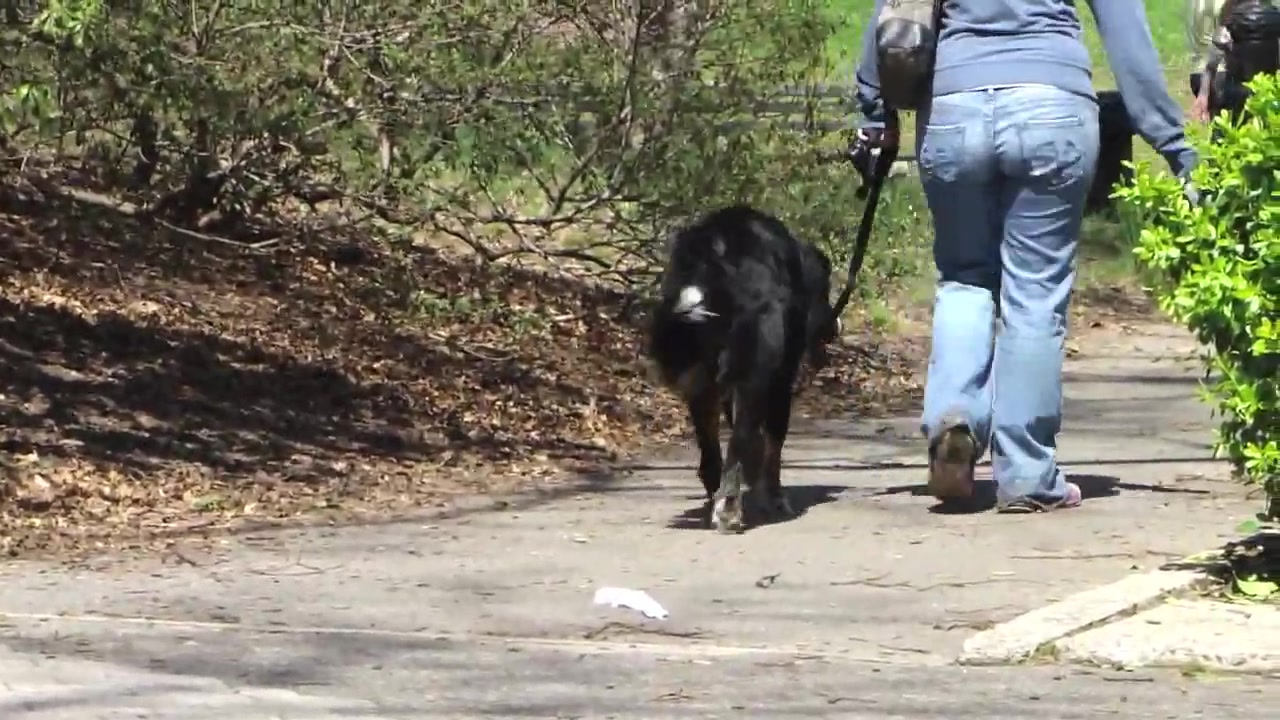dog: (650, 202, 834, 540)
